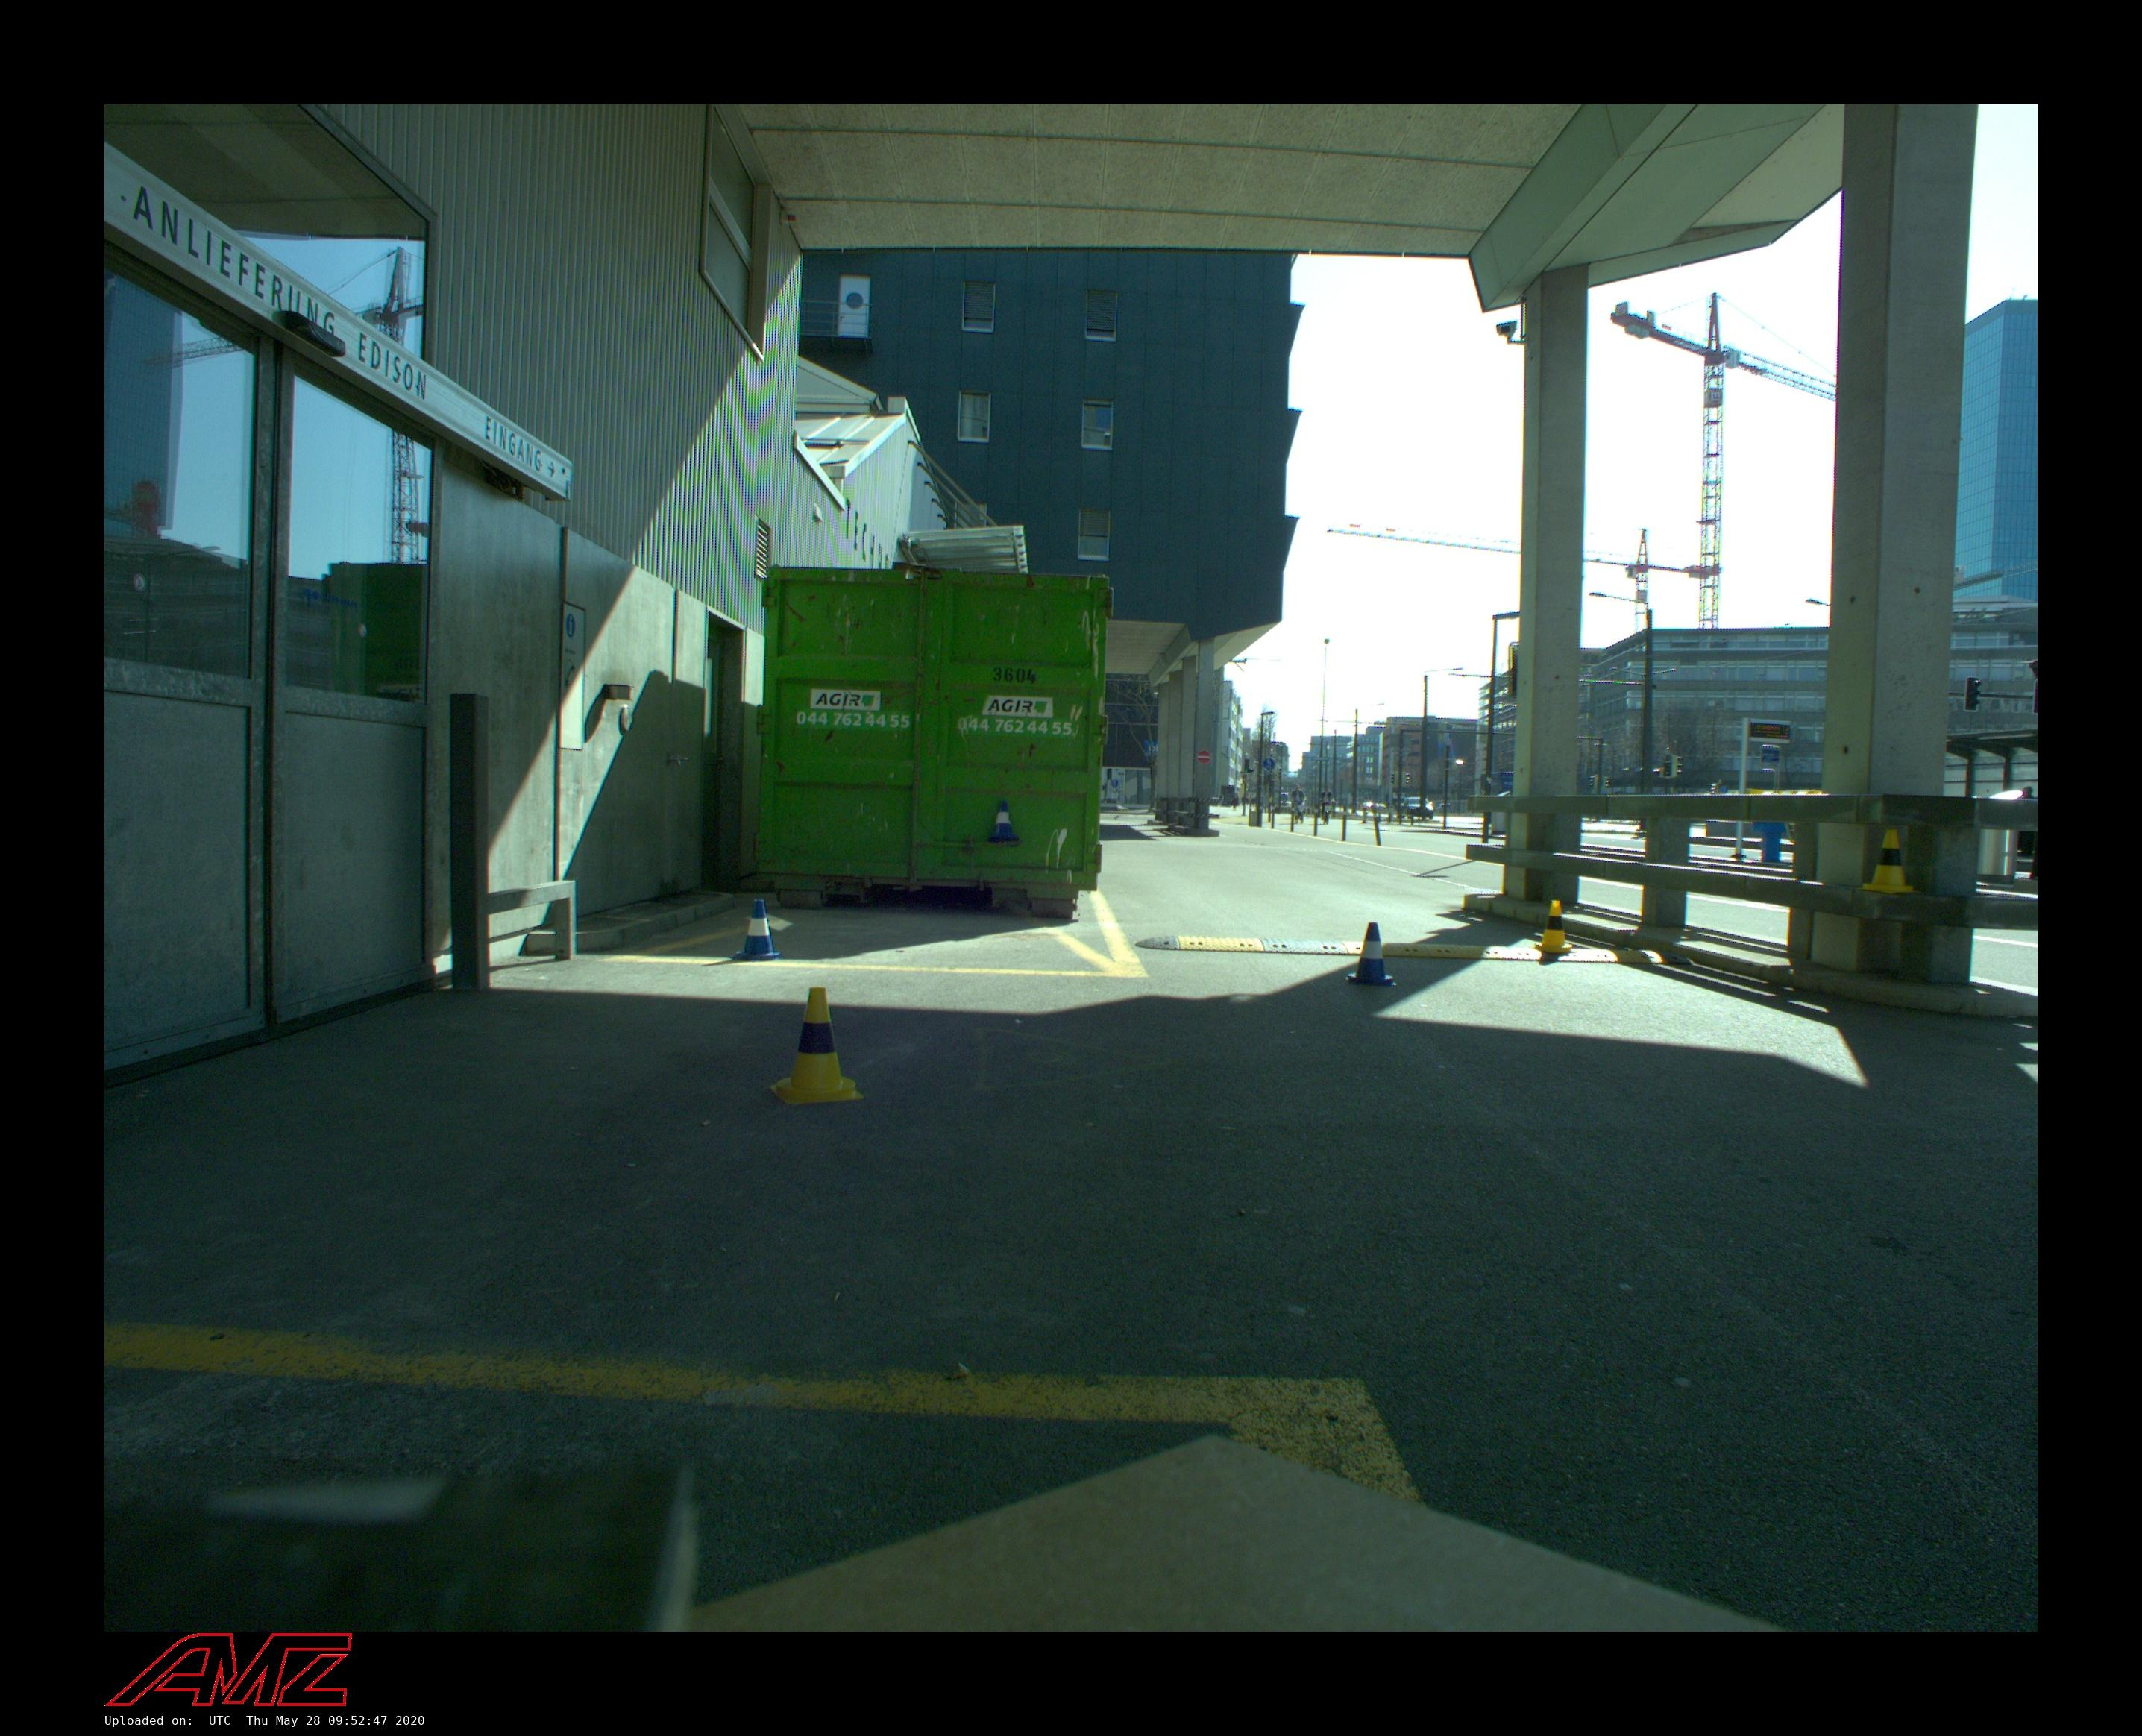blue_cone: (1345, 921, 1396, 987), (732, 900, 781, 962), (989, 801, 1017, 841)
yellow_cone: (769, 985, 865, 1105), (1862, 829, 1913, 893), (1534, 902, 1572, 953)
